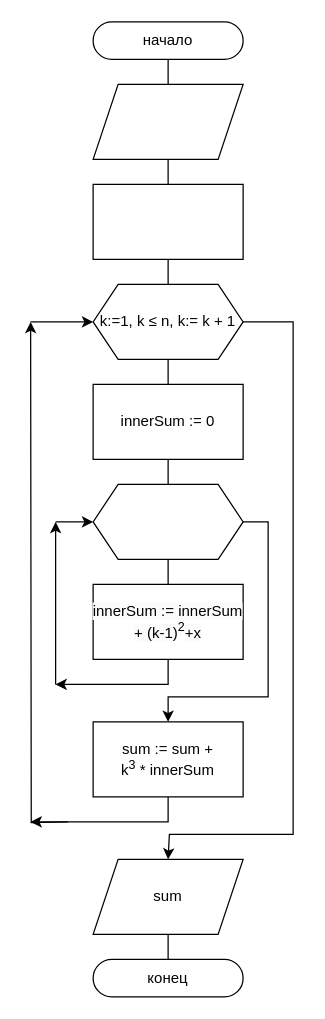
This 325x1019 diagram has some shape labels left out. Here are the shapes that lost their labels. From the top down, the centre of each, then its label:
(x=167, y=121): x, n
(x=167, y=221): sum := 0
(x=167, y=521): m:=1,m ≤15 ,m:=m+1
